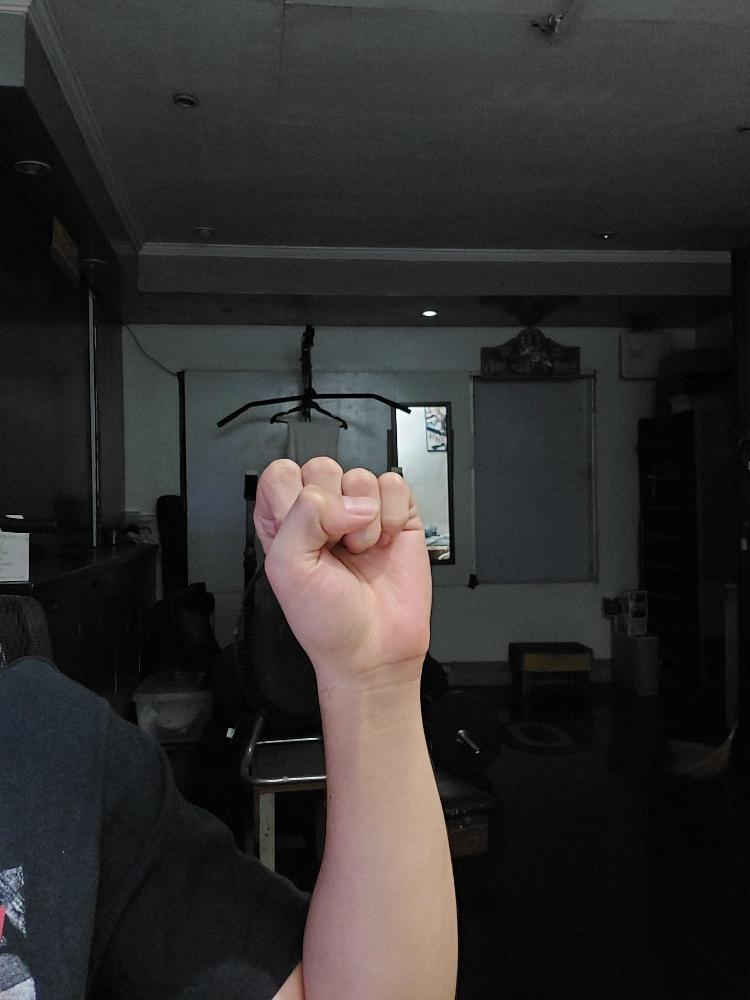s: (251, 455, 432, 671)
